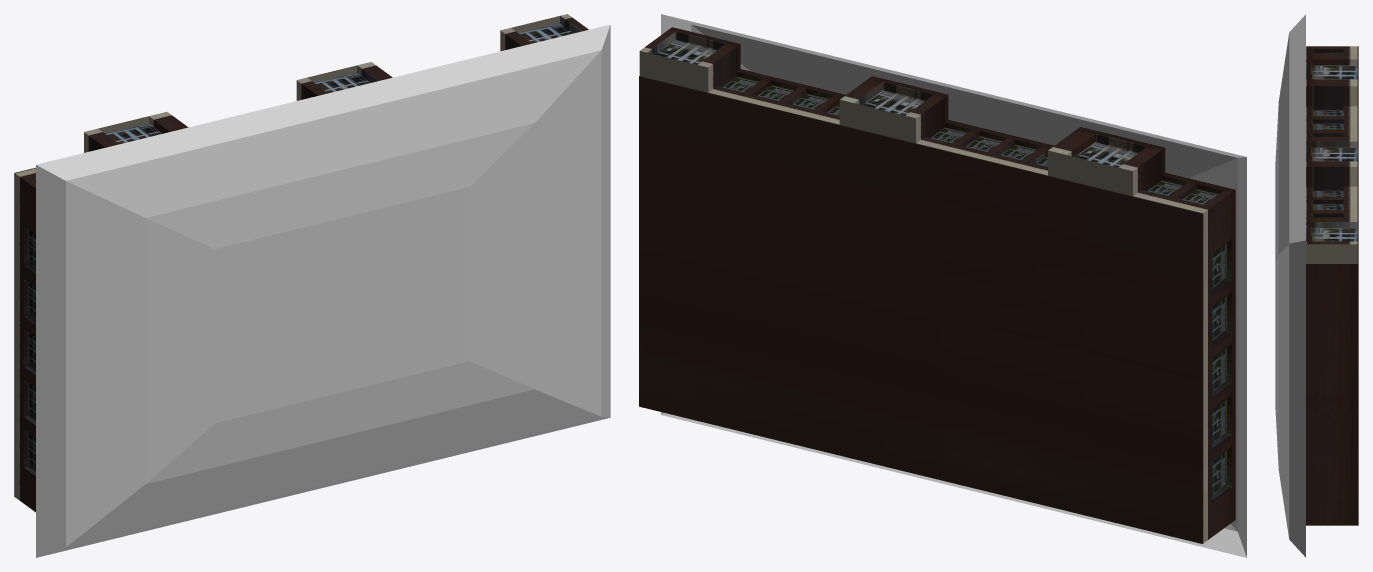
Rendered from yemekhane1.bina.fbx.
3 renders of one model, left to right at view 1: azimuth 30°, elevation 25°; view 2: azimuth 150°, elevation 25°; view 3: azimuth 270°, elevation 25°, orthographic. The views are drawn at different scales.
Parts seen in each view (by area): view 1: Plane.003, Plane.001, Plane; view 2: Cube.001, Plane, Plane.003, Plane.001, Cube.002; view 3: Plane.003, Plane.002, Plane, Cube.001.
Part boxes in pixels (box(x1,y1,x2,y2)): Plane.003: box(36, 24, 610, 557); Plane.001: box(15, 173, 35, 512); Plane: box(15, 14, 588, 188); Cube.001: box(639, 76, 1203, 543); Plane: box(639, 27, 1235, 213); Plane.003: box(661, 14, 1246, 557); Plane.001: box(1203, 190, 1235, 543); Cube.002: box(639, 406, 1202, 543); Plane.003: box(1275, 14, 1305, 557); Plane.002: box(1306, 264, 1357, 525); Plane: box(1306, 46, 1357, 263); Cube.001: box(1357, 46, 1358, 525).
Size of the model in its own units: 5200 by 3400 by 809.
